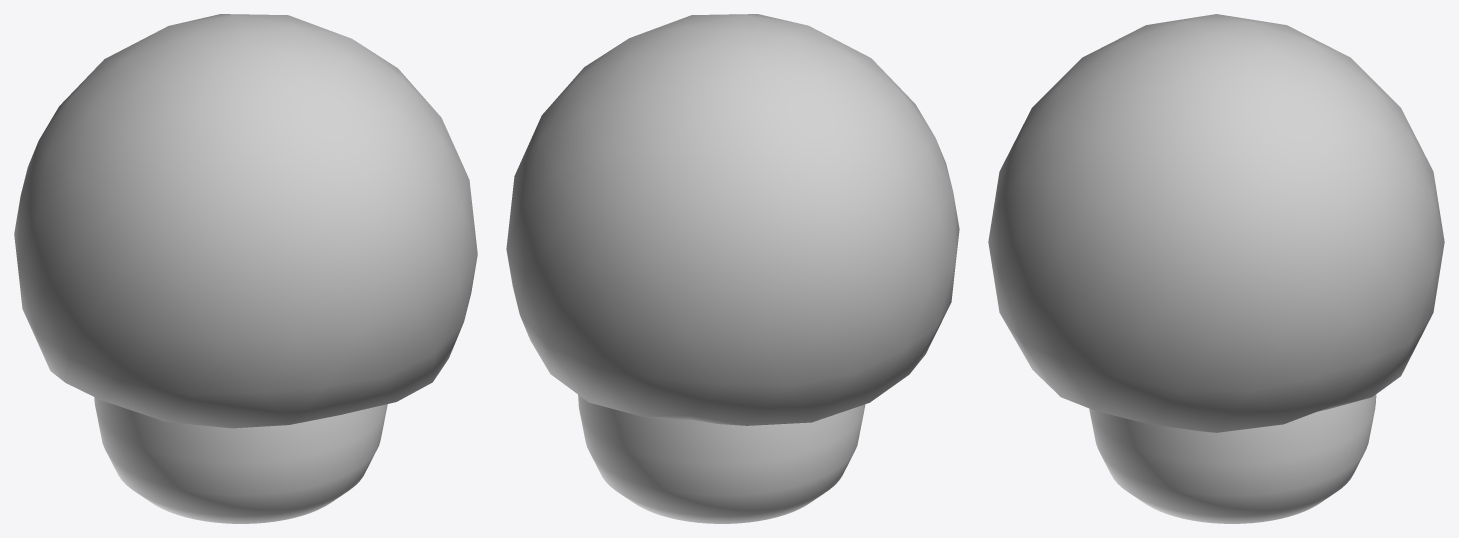
Rendered from HONGOOO.fbx.
3 renders of one model, left to right at view 1: azimuth 30°, elevation 25°; view 2: azimuth 150°, elevation 25°; view 3: azimuth 270°, elevation 25°, orthographic. The views are drawn at different scales.
Visible parts, largest first — view 1: cabeza hongo.005, cuerpo hongo.005; view 2: cabeza hongo.005, cuerpo hongo.005; view 3: cabeza hongo.005, cuerpo hongo.005.
Boxes of the visible parts, x1=… form: cabeza hongo.005: x1=14, y1=14, x2=477, y2=428; cuerpo hongo.005: x1=94, y1=397, x2=387, y2=523; cabeza hongo.005: x1=506, y1=14, x2=959, y2=425; cuerpo hongo.005: x1=578, y1=394, x2=865, y2=523; cabeza hongo.005: x1=988, y1=14, x2=1444, y2=432; cuerpo hongo.005: x1=1089, y1=394, x2=1376, y2=523.
Bounding box in the file's own units: 310 × 341 × 310.
